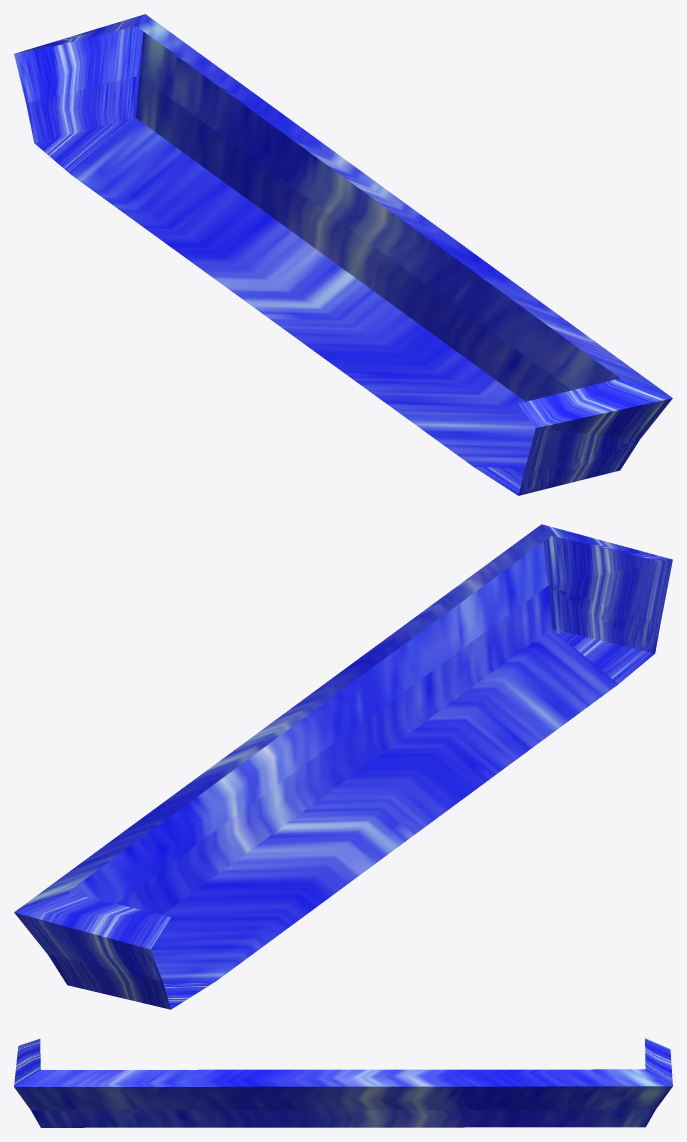
The picture shows the model from 3 angles, top to bottom: view 1: azimuth 30°, elevation 25°; view 2: azimuth 150°, elevation 25°; view 3: azimuth 270°, elevation 25°; orthographic projection. The views are drawn at different scales.
Size of the model in its own units: 0.0537 by 0.034 by 0.3496.
Materials: 1 (1 with a texture image).
